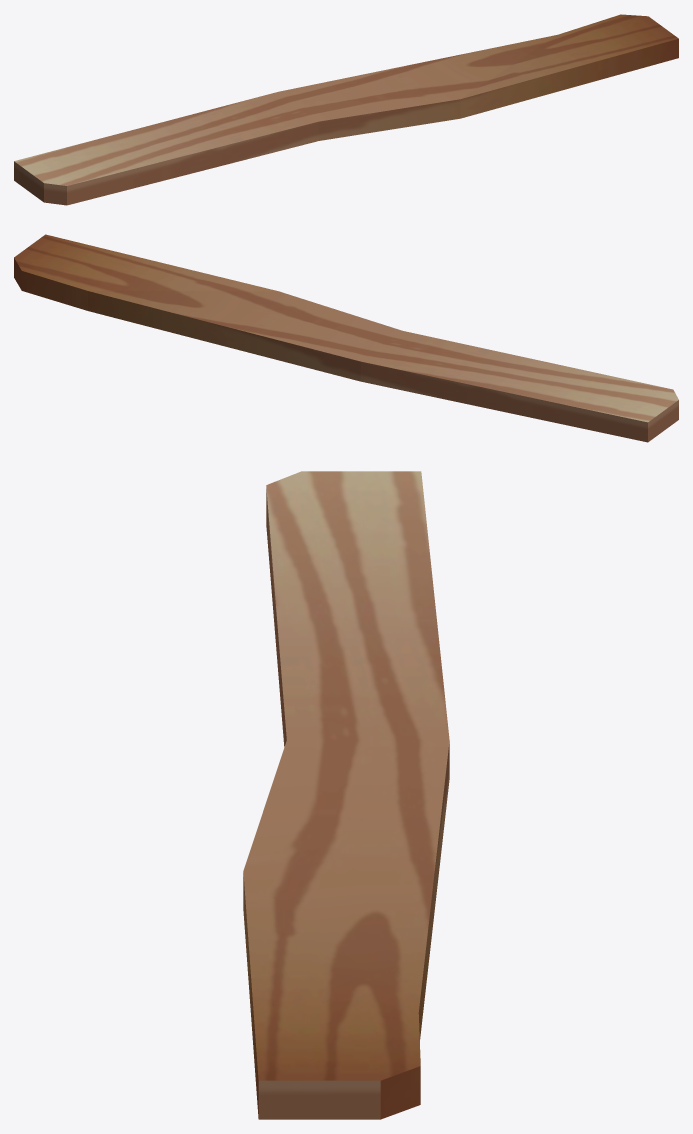
The model's file is SM_Plank_01.fbx.
3 renders of one model, top to bottom at view 1: azimuth 30°, elevation 25°; view 2: azimuth 150°, elevation 25°; view 3: azimuth 270°, elevation 25°, orthographic. The views are drawn at different scales.
Parts seen in each view (by area): view 1: SM_Plank_01; view 2: SM_Plank_01; view 3: SM_Plank_01.
Boxes of the visible parts, x1,y1,x2,y2 form: SM_Plank_01: (14,14,678,205); SM_Plank_01: (14,234,678,442); SM_Plank_01: (243,471,449,1119).
Bounding box in the file's own units: 2.08 × 0.08 × 0.2978.
